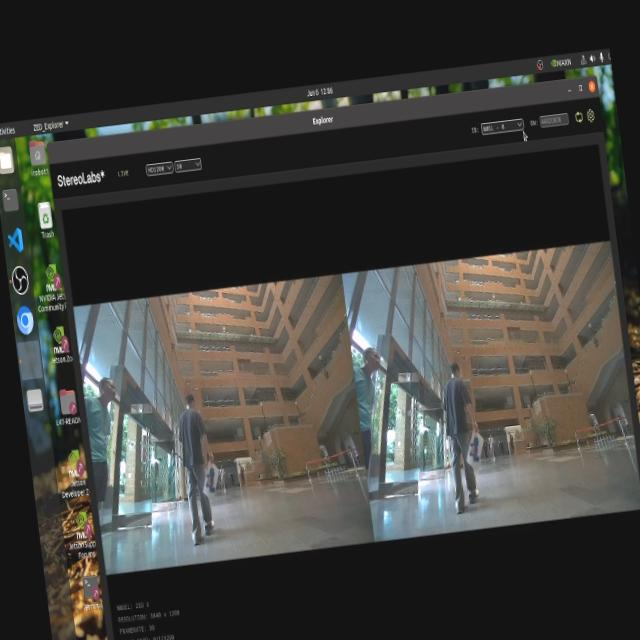blue: (464, 430, 484, 470), (203, 466, 221, 499)
